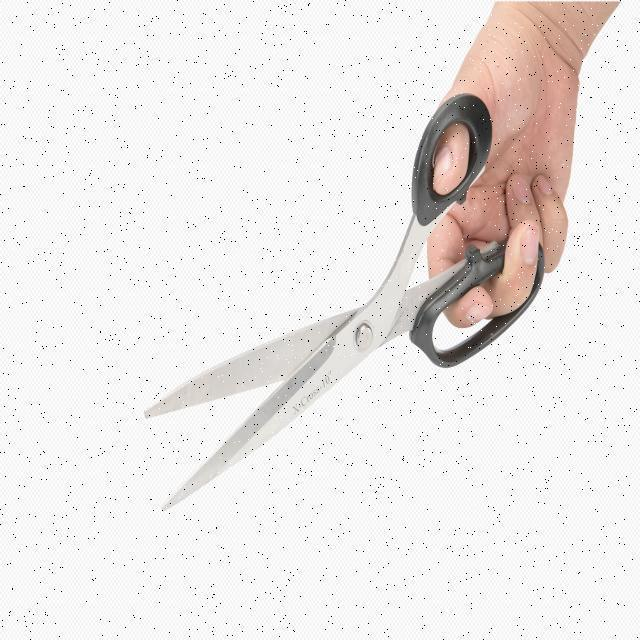scissors: (138, 91, 548, 518)
